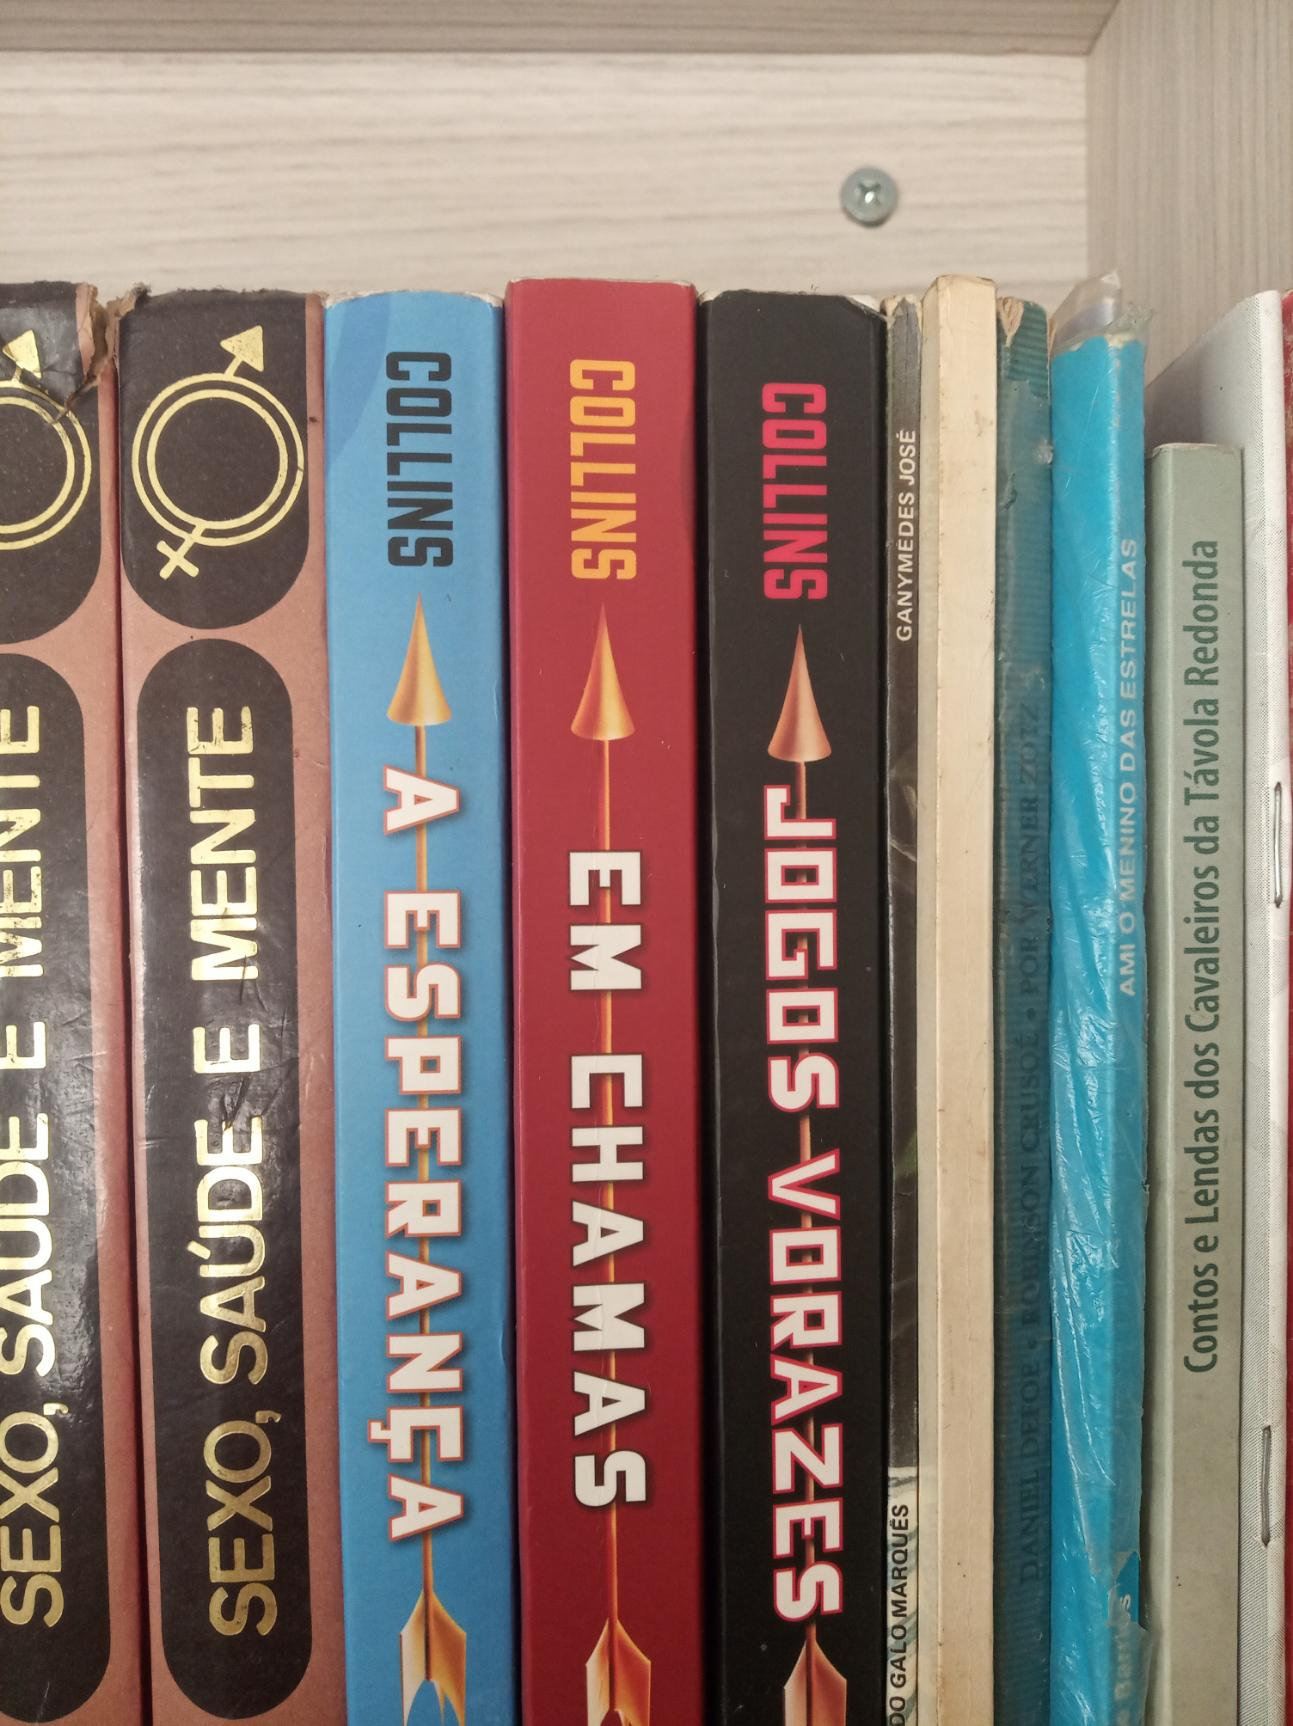book: (126, 304, 314, 1722), (331, 300, 494, 1708), (517, 303, 680, 1711), (708, 312, 871, 1721), (7, 304, 109, 1716), (1165, 437, 1243, 1722), (936, 278, 985, 1726), (1002, 300, 1049, 1726), (1106, 344, 1144, 1716), (891, 306, 917, 1725)
